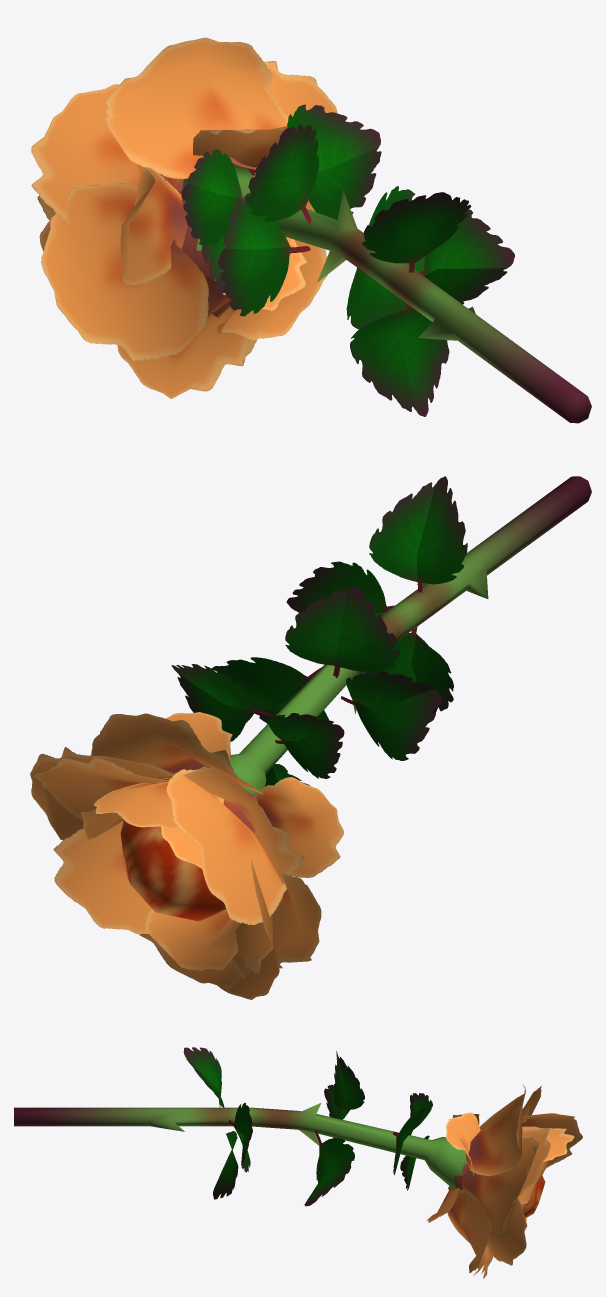
File: SM_Rose_Orange_WideOpen.fbx
The picture shows the model from 3 angles, top to bottom: view 1: azimuth 30°, elevation 25°; view 2: azimuth 150°, elevation 25°; view 3: azimuth 270°, elevation 25°; orthographic projection. The views are drawn at different scales.
Parts seen in each view (by area): view 1: Rose_Orange_WideOpen; view 2: Rose_Orange_WideOpen; view 3: Rose_Orange_WideOpen.
Part boxes in pixels (x1,y1,x2,y2): Rose_Orange_WideOpen: [31, 37, 591, 423]; Rose_Orange_WideOpen: [30, 476, 591, 999]; Rose_Orange_WideOpen: [14, 1047, 582, 1278].
Bounding box in the file's own units: 52.56 × 59.81 × 130.
